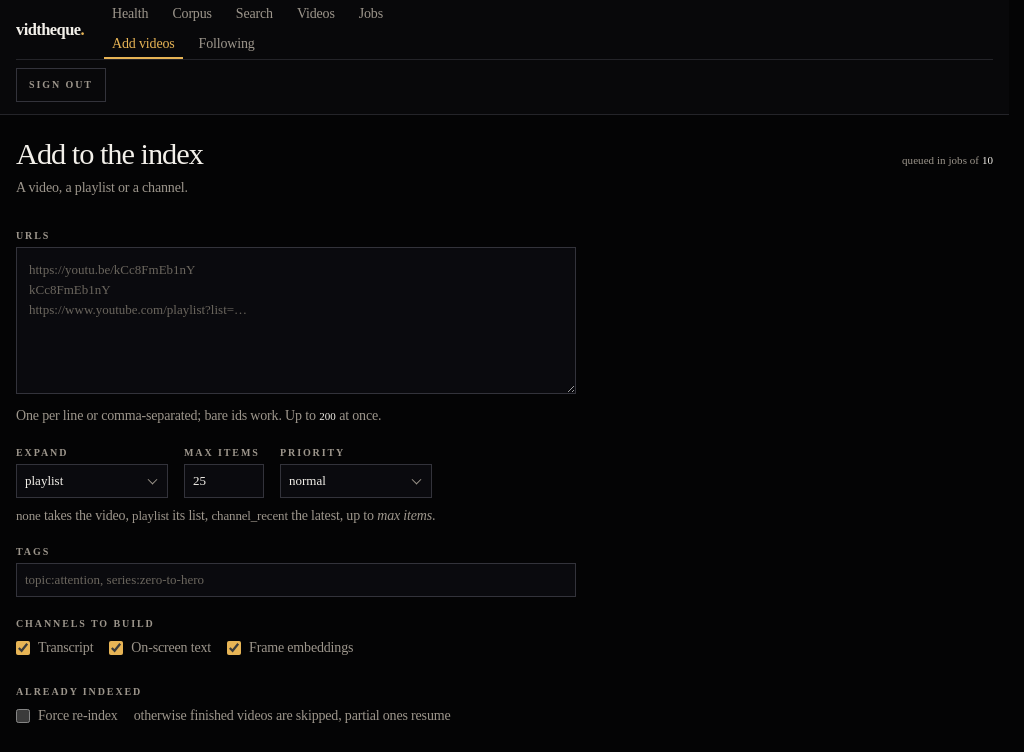
it: the index form › the receipt › reads a 409 as a receipt rather than as a refusal
This screenshot has width=1024, height=752.
Type "vid00000042" into the text box labelled "URLs".
click(296, 321); type("vid00000042")  # box left=16, top=247, right=576, bottom=394
(page scrolled)
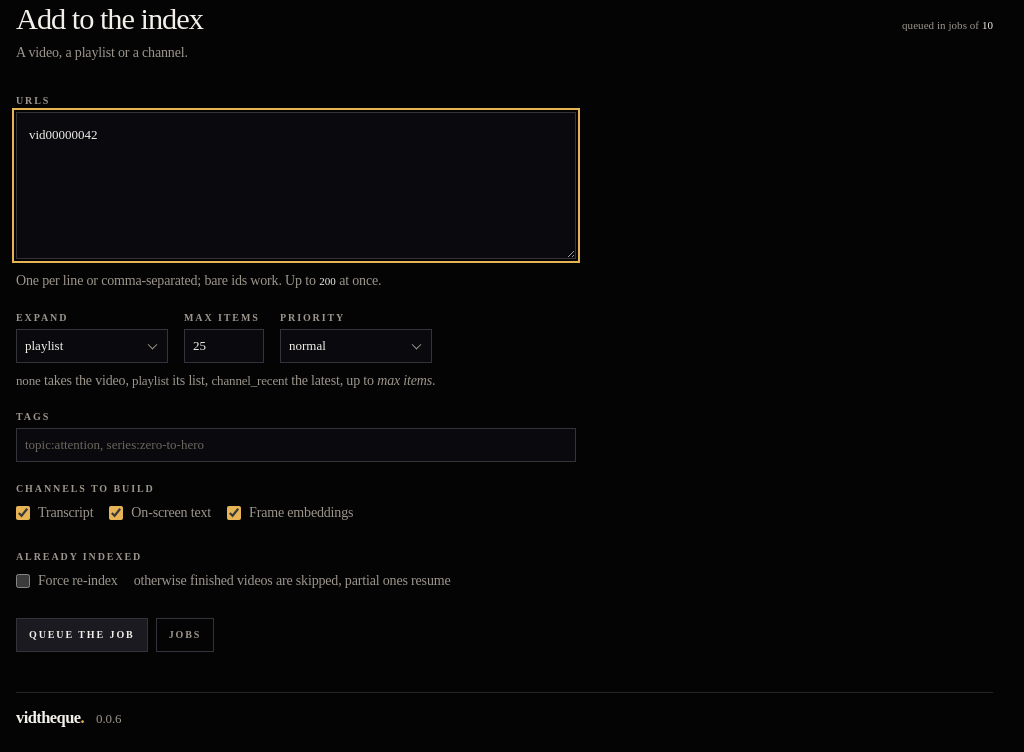
Click the button "Queue the job".
click(82, 635)  # box left=16, top=618, right=148, bottom=652
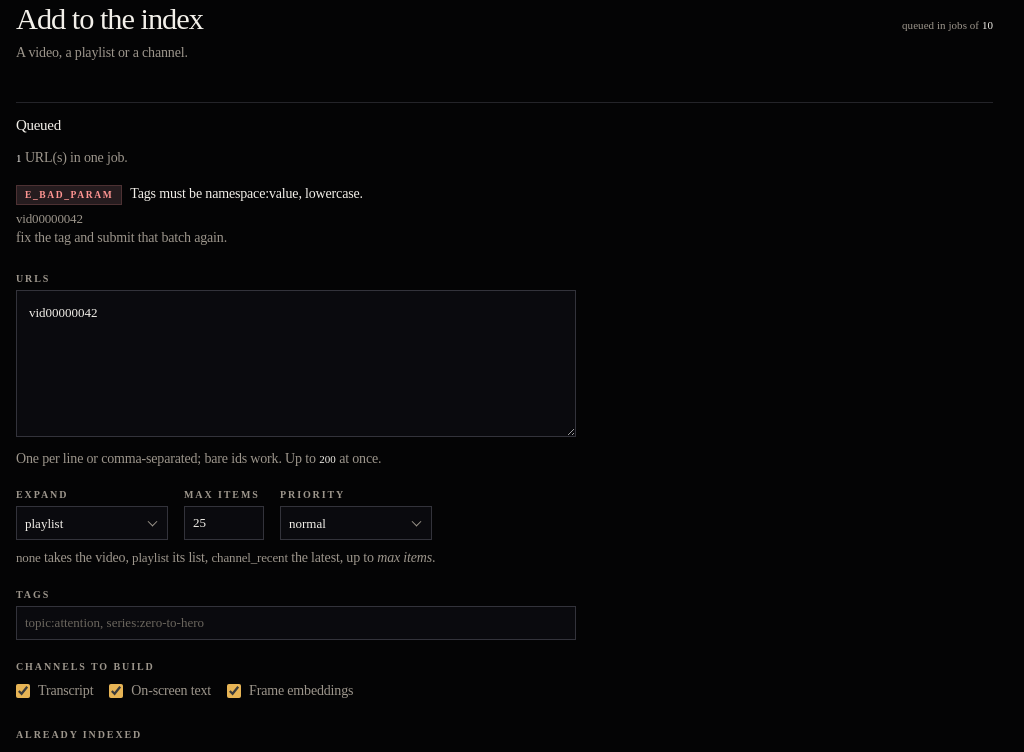
Expected: the text "E_BAD_PARAM" is shown, left=16, top=185, right=122, bottom=205
Expected: the text "vid00000042" is shown, left=16, top=211, right=83, bottom=226
